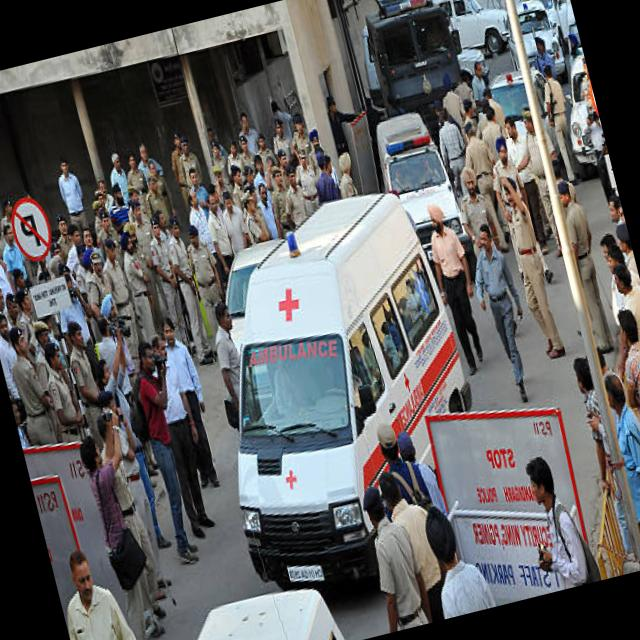ambulance: (167, 181, 509, 594)
